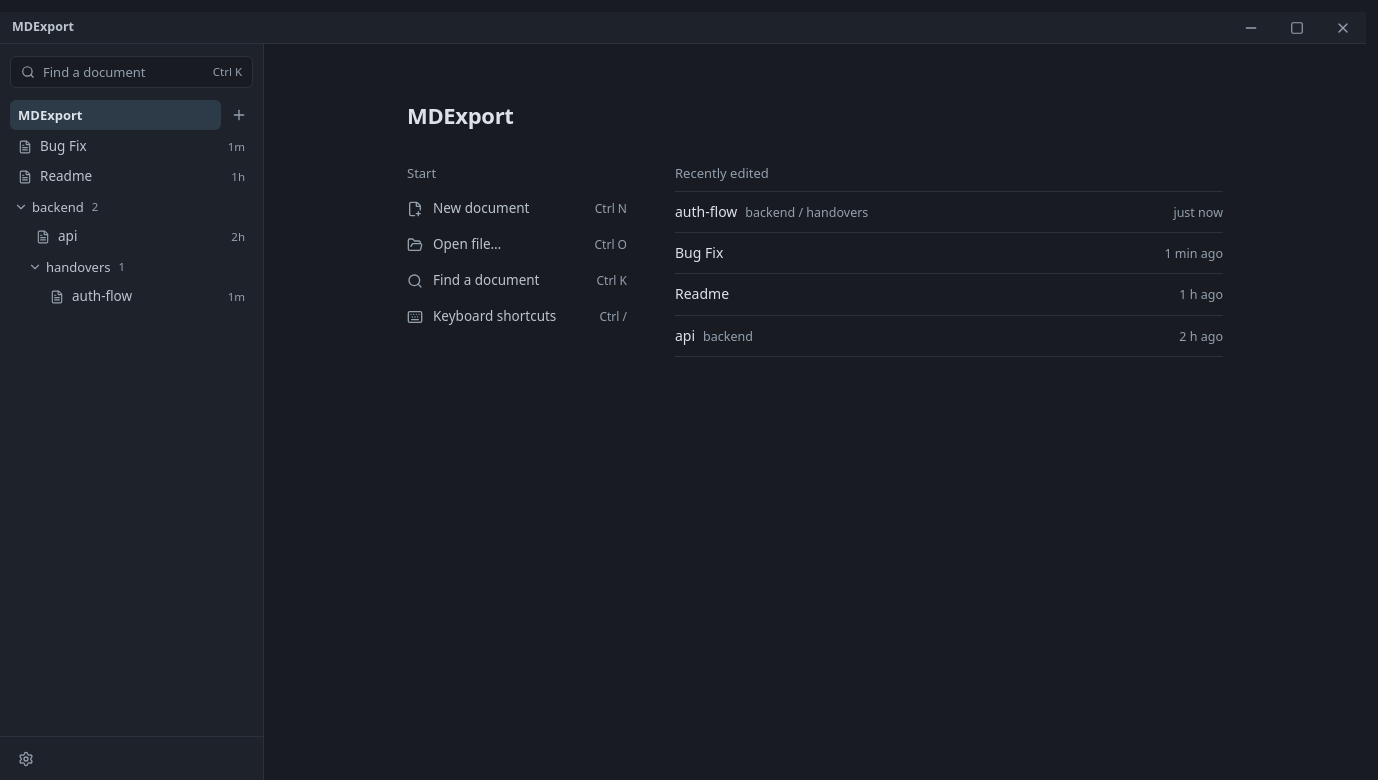
Test: Library index › reopening a document keeps its unsaved changes
Click the button "api 2h".
click(132, 237)  # box [10, 222, 253, 252]
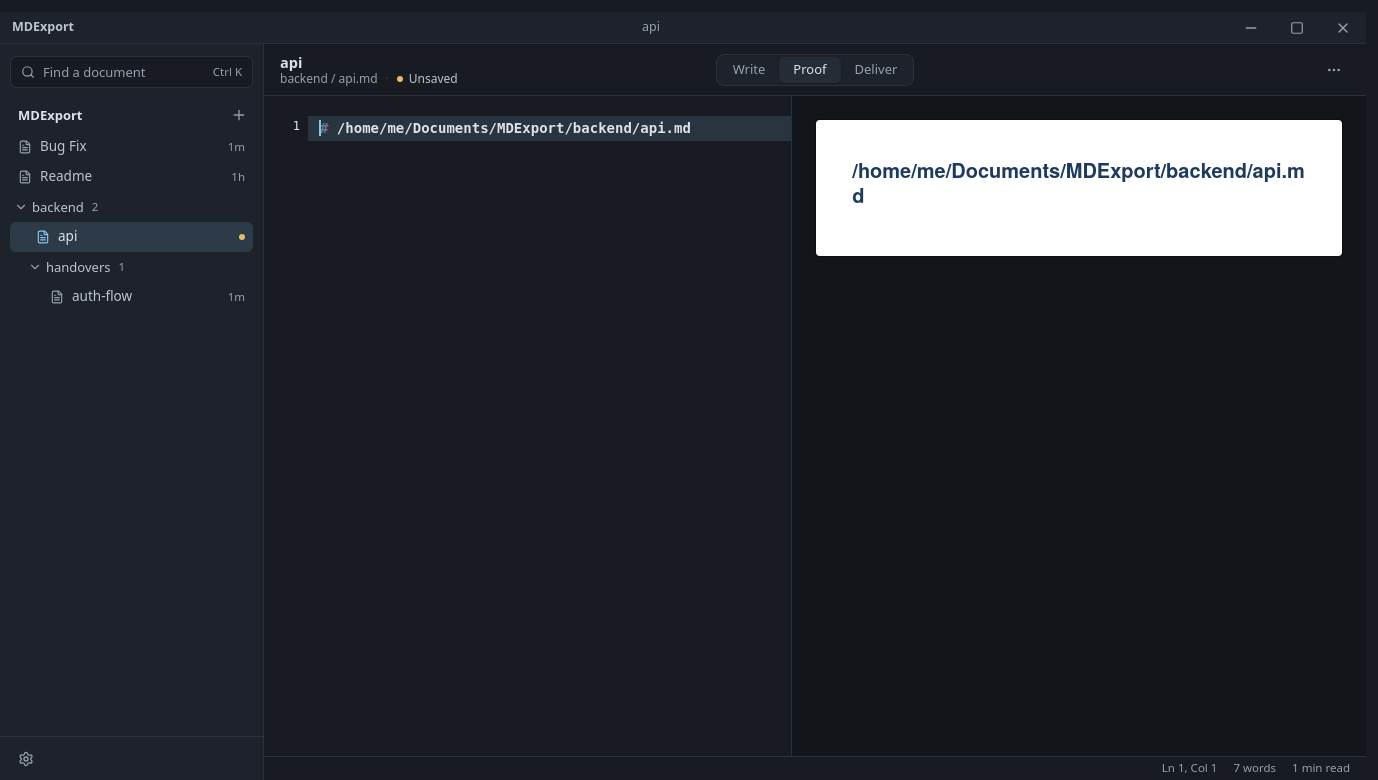
Now the heading "api" is shown, box [280, 52, 302, 72]
Click the button "auth-flow 1m".
click(132, 297)  # box [10, 282, 253, 312]
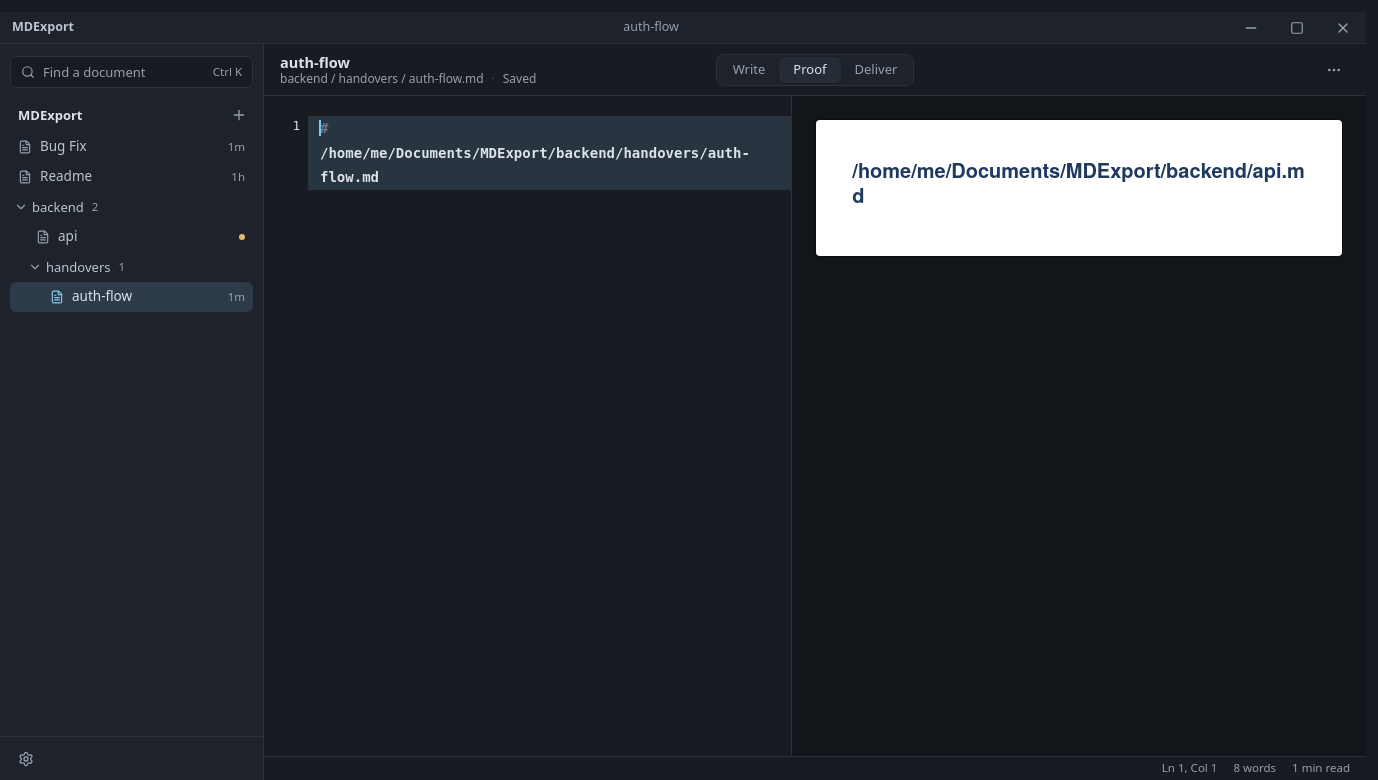
Click the button with aria-label "api (unsaved changes)".
click(132, 237)  # box [10, 222, 253, 252]
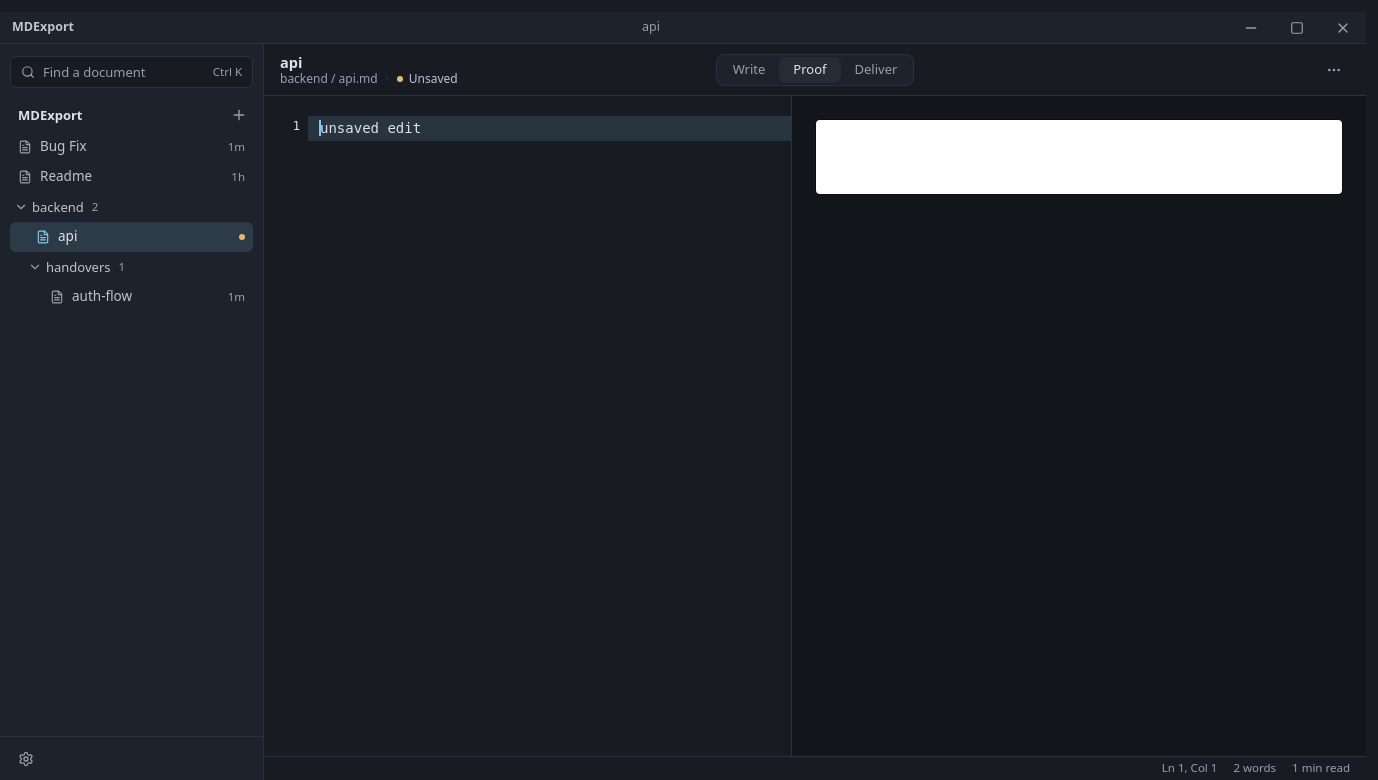
Now the field named "Markdown editor" reads "unsaved edit", box [308, 116, 790, 140]
